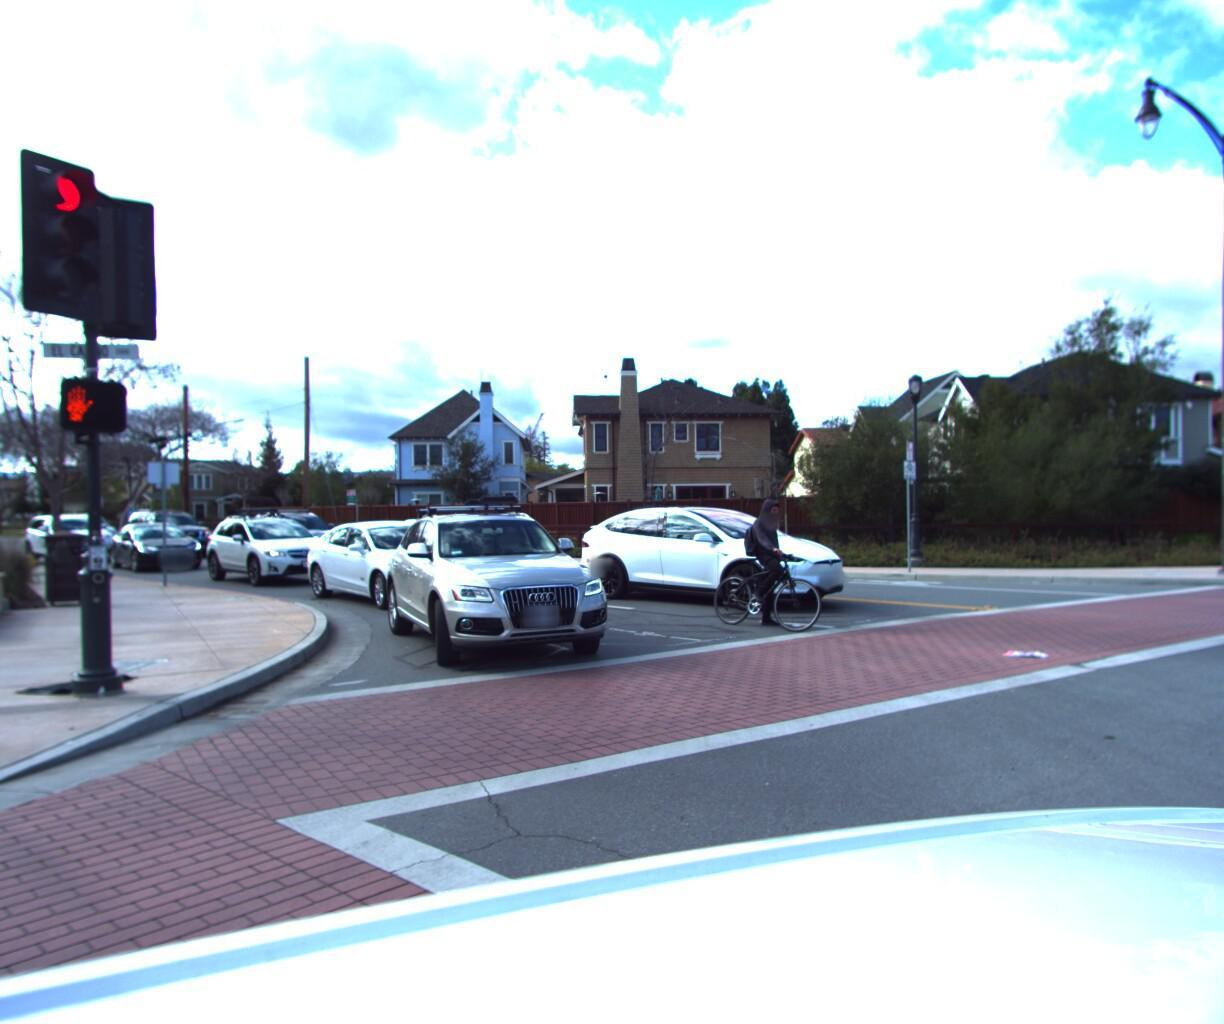bicycle: (699, 488, 850, 633)
car: (372, 491, 638, 670), (560, 482, 878, 614), (295, 513, 505, 610), (195, 502, 347, 584), (233, 505, 369, 567), (95, 515, 201, 570), (16, 510, 122, 566), (115, 501, 220, 557)
